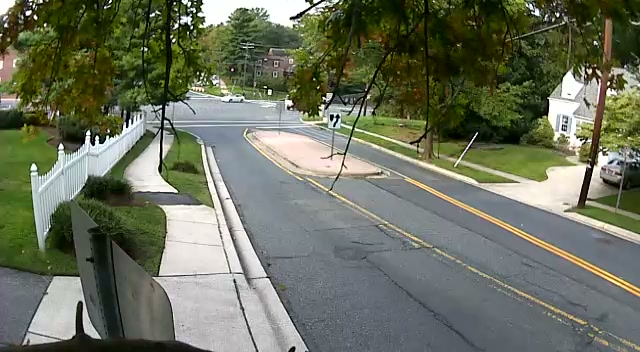car: (599, 155, 640, 189), (224, 94, 245, 103)
